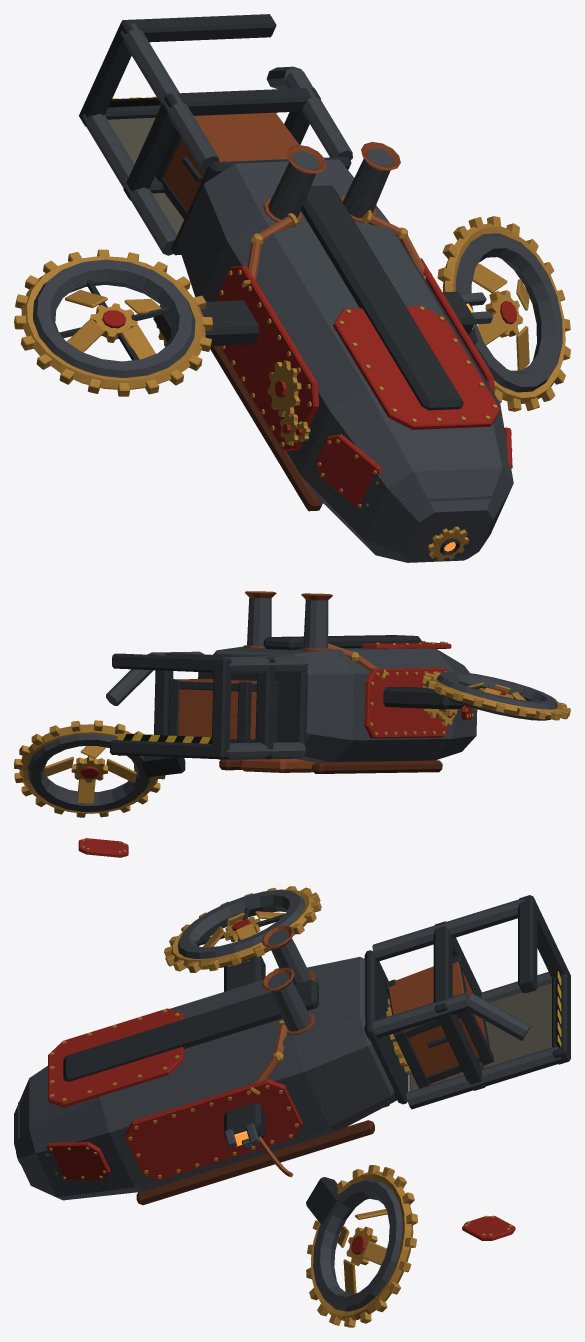
The model's file is cog_drone_wreck.fbx.
The picture shows the model from 3 angles, top to bottom: view 1: azimuth 30°, elevation 25°; view 2: azimuth 150°, elevation 25°; view 3: azimuth 270°, elevation 25°; orthographic projection. The views are drawn at different scales.
Visible parts, largest first — view 1: Body; view 2: Body; view 3: Body.
Part boxes in pixels (x1,y1,x2,y2): Body: (14, 14, 570, 562); Body: (14, 591, 570, 857); Body: (14, 886, 570, 1327).
Size of the model in its own units: 33.22 by 18.68 by 30.76.
Materials: 2 (1 with a texture image).
